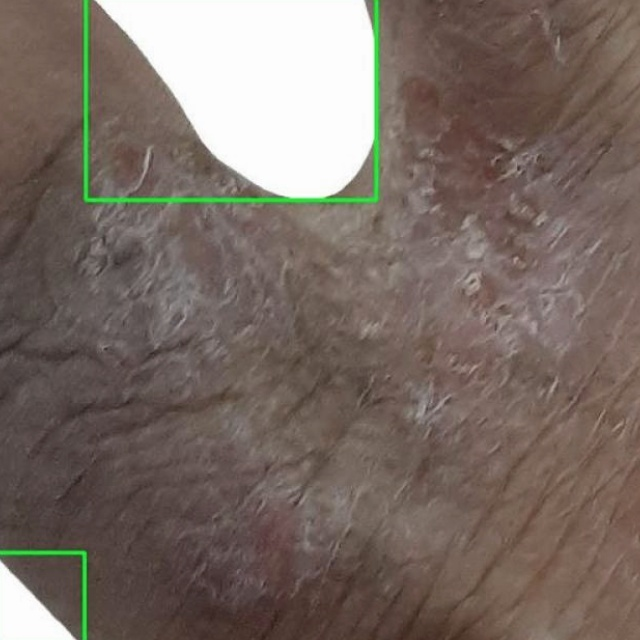Eczema: (85, 0, 376, 200), (0, 552, 84, 639)
